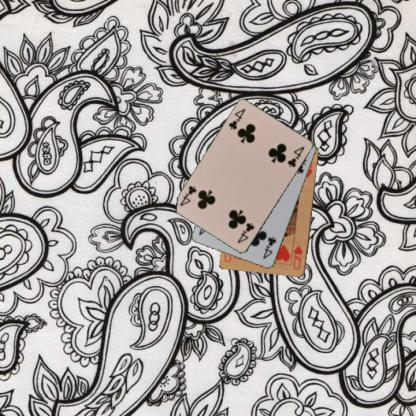4c: (235, 220, 256, 245), (226, 106, 247, 131), (260, 234, 278, 261)
Qh: (291, 243, 304, 271)
